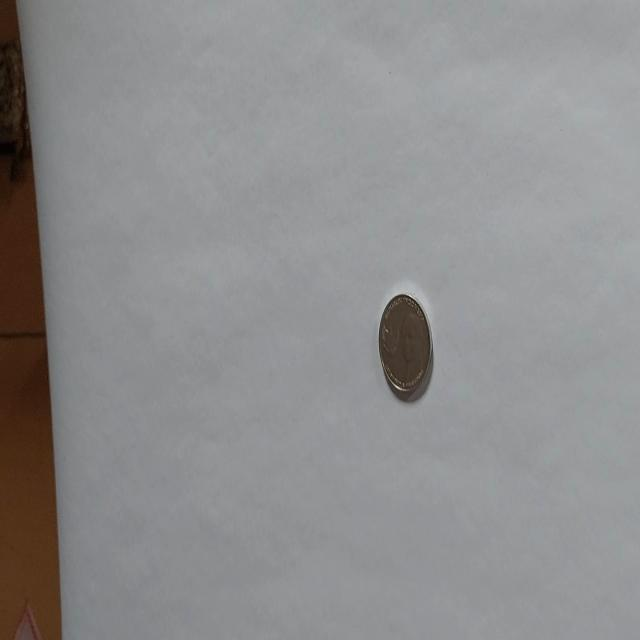lima ratus rupiah: (376, 292, 434, 402)
